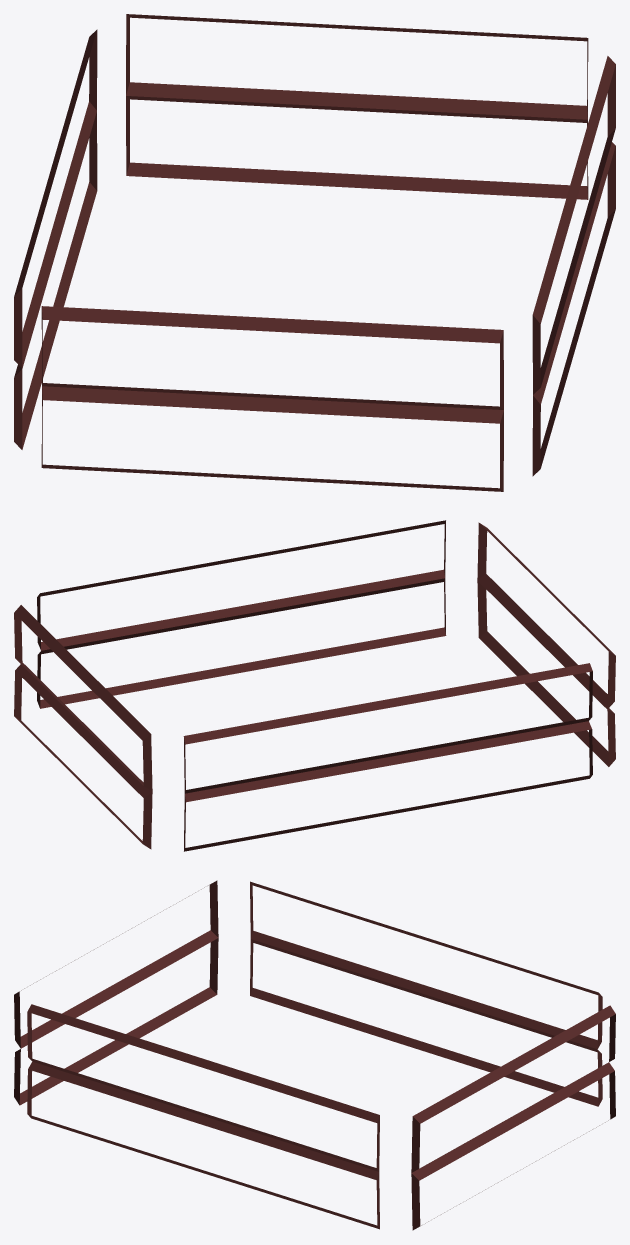
The model's file is n2_chest_bottom_dark_brown_0_lev2.003.glb.
The picture shows the model from 3 angles, top to bottom: view 1: azimuth 30°, elevation 25°; view 2: azimuth 150°, elevation 25°; view 3: azimuth 270°, elevation 25°; orthographic projection. The views are drawn at different scales.
Parts seen in each view (by area): view 1: n2_chest_bottom_dark_brown_0_lev2.003; view 2: n2_chest_bottom_dark_brown_0_lev2.003; view 3: n2_chest_bottom_dark_brown_0_lev2.003.
Boxes of the visible parts, bbox=[...] form: n2_chest_bottom_dark_brown_0_lev2.003: bbox=[14, 14, 615, 491]; n2_chest_bottom_dark_brown_0_lev2.003: bbox=[14, 520, 615, 851]; n2_chest_bottom_dark_brown_0_lev2.003: bbox=[14, 880, 615, 1230].
Bounding box in the file's own units: 1.81 × 0.4042 × 1.93.
